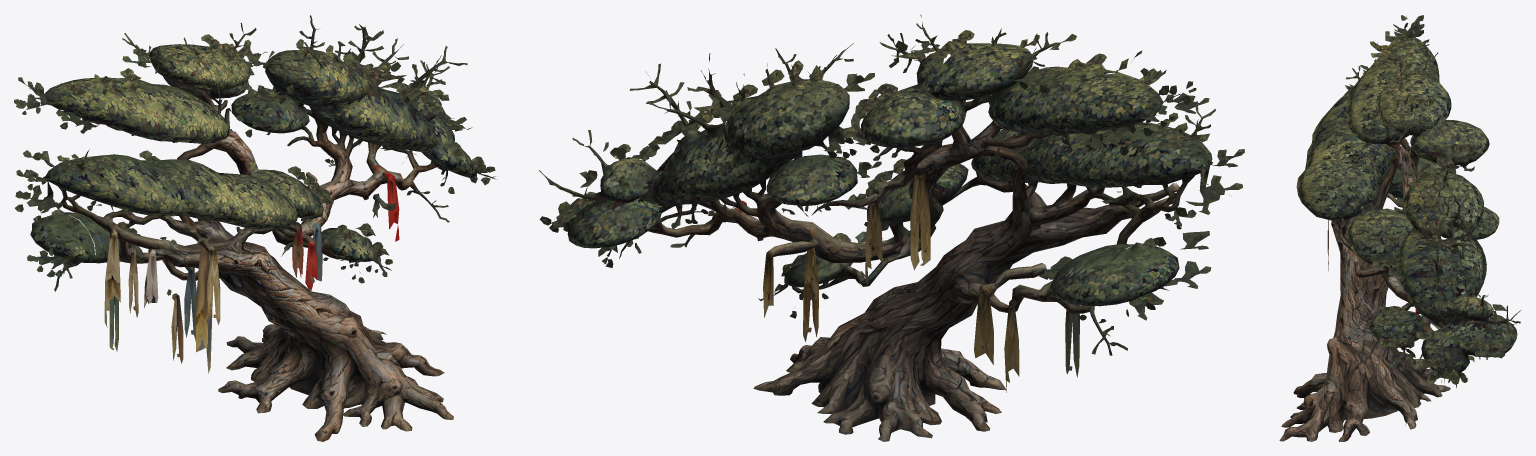
File: act1-a23-2-ribbon-thorn.glb
3 renders of one model, left to right at view 1: azimuth 30°, elevation 25°; view 2: azimuth 150°, elevation 25°; view 3: azimuth 270°, elevation 25°, orthographic. The views are drawn at different scales.
Visible parts, largest first — view 1: act1-a23-2-ribbon-thorn; view 2: act1-a23-2-ribbon-thorn; view 3: act1-a23-2-ribbon-thorn.
Part boxes in pixels (x1,y1,x2,y2): act1-a23-2-ribbon-thorn: (14, 15, 497, 441); act1-a23-2-ribbon-thorn: (539, 14, 1244, 441); act1-a23-2-ribbon-thorn: (1279, 15, 1520, 441).
Bounding box in the file's own units: 7.87 × 5.5 × 3.99.
Materials: 1 (1 with a texture image).
